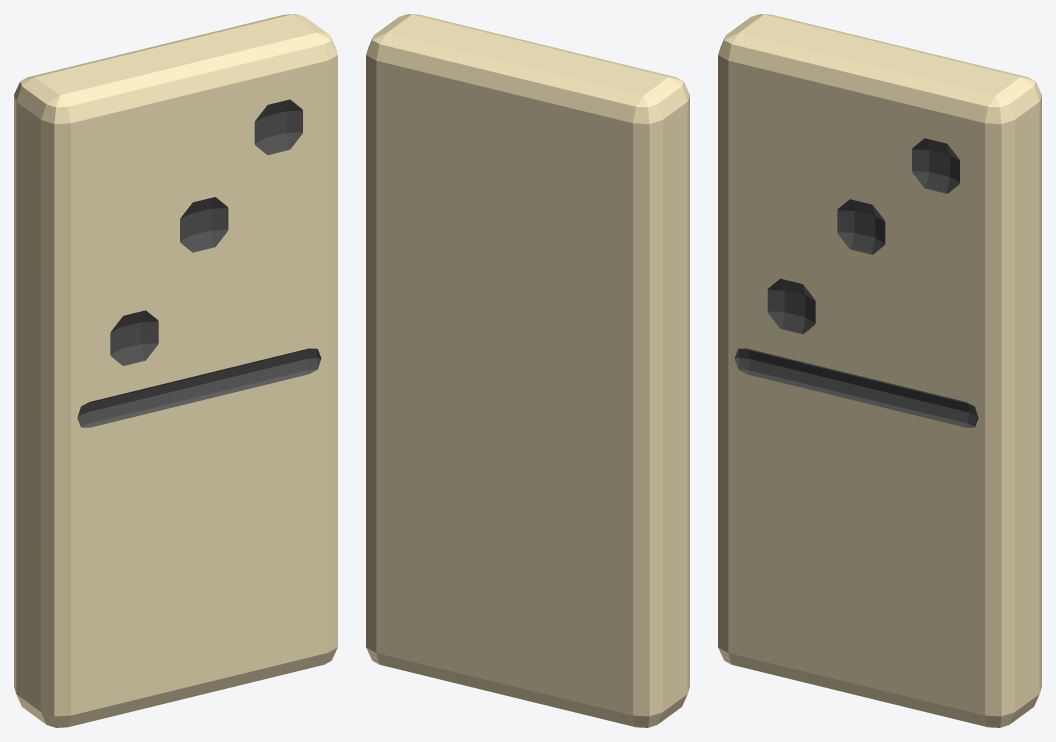
File: dominoes 3x0.fbx
The picture shows the model from 3 angles, left to right: view 1: azimuth 30°, elevation 25°; view 2: azimuth 150°, elevation 25°; view 3: azimuth 330°, elevation 25°; orthographic projection.
Visible parts, largest first — view 1: Boole_16; view 2: Boole_16; view 3: Boole_16.
Part boxes in pixels (x1,y1,x2,y2): Boole_16: [14, 14, 337, 727]; Boole_16: [366, 14, 689, 727]; Boole_16: [718, 14, 1041, 727].
Size of the model in its own units: 200 by 410 by 55.02.
